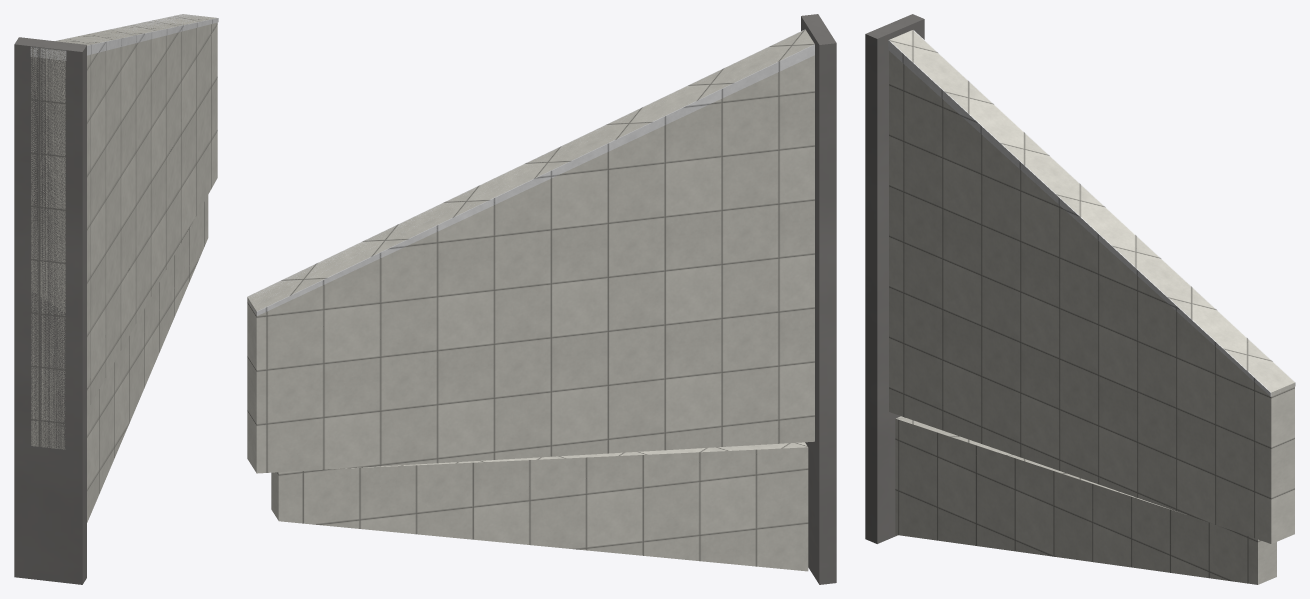
File: aero05_tail_fin_s_vtail.glb
3 views of the same model, side by side, from view 1: azimuth 30°, elevation 25°; view 2: azimuth 150°, elevation 25°; view 3: azimuth 270°, elevation 25° (orthographic). The views are drawn at different scales.
Visible parts, largest first — view 1: fin, root_flange, surface_rudder, fin_le; view 2: fin, surface_rudder, root_flange, fin_le; view 3: fin, surface_rudder, root_flange, fin_le.
Part boxes in pixels (x1,y1,x2,y2): fin: (31, 14, 217, 449); root_flange: (14, 37, 86, 584); surface_rudder: (87, 195, 208, 522); fin_le: (30, 14, 218, 60); fin: (247, 29, 814, 473); surface_rudder: (271, 442, 808, 571); root_flange: (801, 14, 836, 584); fin_le: (247, 29, 814, 315); fin: (889, 30, 1294, 543); surface_rudder: (895, 416, 1276, 584); root_flange: (865, 14, 924, 543); fin_le: (888, 30, 1295, 396).
Size of the model in its own units: 1.16 by 1.5 by 1.16.
Materials: 3 (3 with a texture image).
